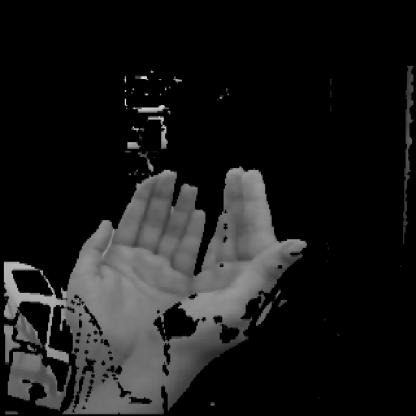dua: (19, 151, 325, 414)
